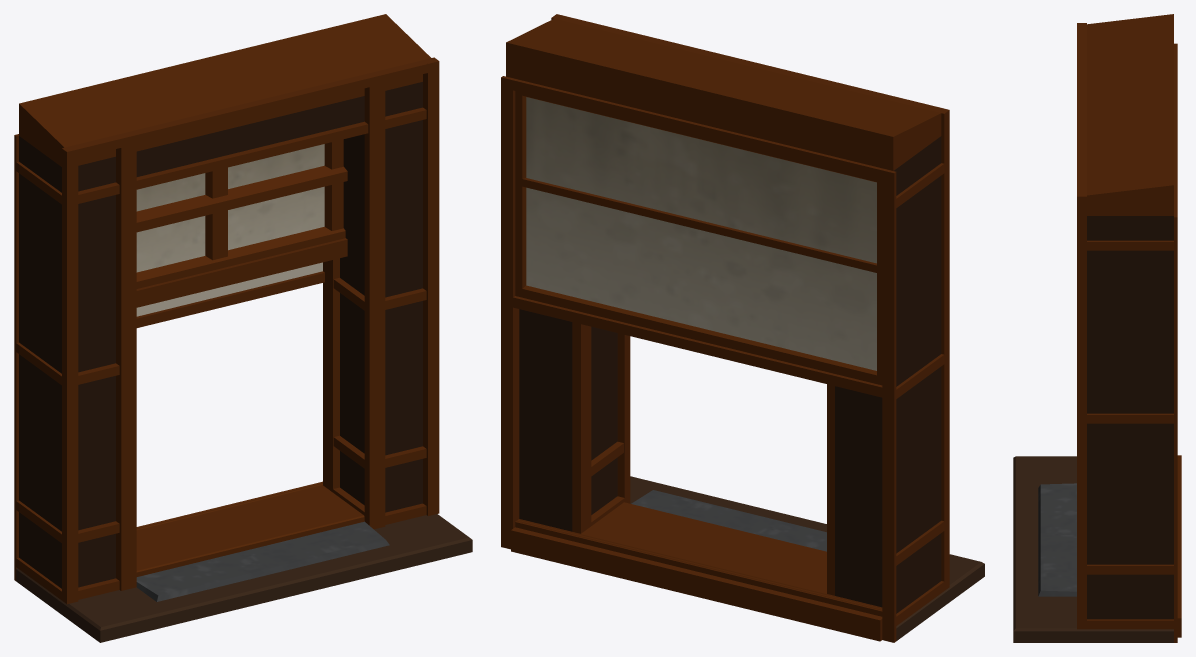
File: Bld_Dojo_Entrance.fbx
3 views of the same model, side by side, from view 1: azimuth 30°, elevation 25°; view 2: azimuth 150°, elevation 25°; view 3: azimuth 270°, elevation 25° (orthographic). The views are drawn at different scales.
Visible parts, largest first — view 1: Bld_Dojo_Entrance; view 2: Bld_Dojo_Entrance; view 3: Bld_Dojo_Entrance.
Part boxes in pixels (x1,y1,x2,y2): Bld_Dojo_Entrance: [14, 14, 472, 642]; Bld_Dojo_Entrance: [501, 14, 984, 642]; Bld_Dojo_Entrance: [1013, 14, 1181, 642].
Bounding box in the file's own units: 543 × 665 × 222.
